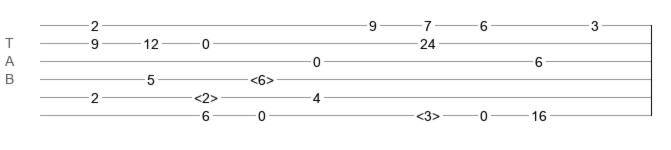0: (202, 36, 210, 46), (258, 108, 266, 118), (313, 54, 321, 64), (480, 108, 488, 118)
12: (143, 36, 159, 46)
16: (531, 108, 547, 118)
2: (91, 90, 99, 100), (91, 18, 99, 28)
24: (420, 36, 436, 46)
3: (591, 18, 599, 28)
4: (313, 90, 321, 100)
5: (147, 72, 155, 82)
6: (202, 108, 210, 118), (480, 18, 488, 28), (535, 54, 543, 64)
7: (424, 18, 432, 28)
9: (91, 36, 99, 46), (369, 18, 377, 28)
harmonic: (194, 90, 218, 100), (250, 72, 274, 82), (416, 108, 440, 118)
